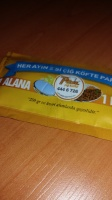Majezik: (33, 78, 57, 97)
